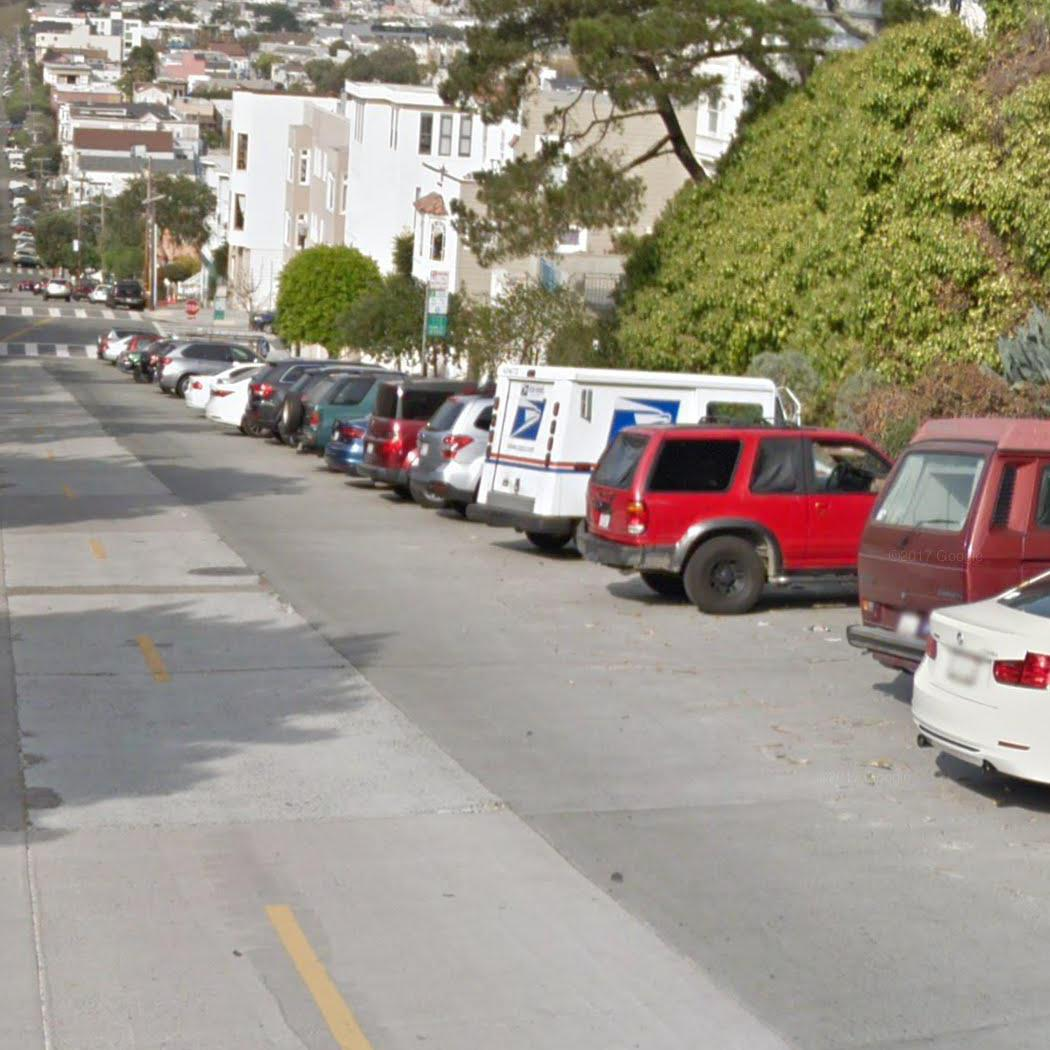2 Hour Parking: (427, 289, 449, 314)
No Parking: (429, 270, 450, 289)
